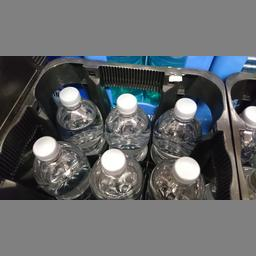water: (28, 132, 86, 196), (52, 82, 102, 148), (102, 92, 152, 154), (151, 96, 200, 158), (84, 148, 140, 198), (145, 152, 206, 197)
